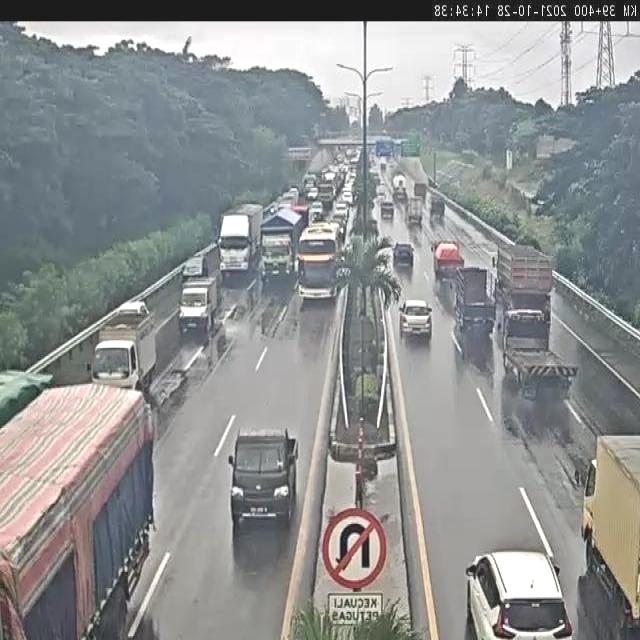Car: (393, 242, 414, 268), (430, 195, 445, 219)
Truck: (0, 382, 157, 640), (490, 287, 596, 408), (580, 436, 639, 636), (464, 549, 573, 638), (228, 426, 300, 532), (135, 263, 191, 391), (90, 301, 161, 397), (296, 223, 342, 304), (260, 206, 306, 286), (219, 205, 264, 282), (453, 263, 494, 342), (178, 272, 220, 340), (185, 241, 222, 302), (351, 372, 384, 438), (298, 297, 332, 350), (142, 398, 157, 508), (398, 298, 432, 340), (582, 458, 597, 548), (308, 220, 342, 257), (434, 240, 464, 280), (437, 275, 459, 313), (182, 251, 209, 281), (268, 191, 298, 217), (358, 446, 378, 484), (116, 300, 150, 319), (573, 457, 591, 490), (328, 166, 346, 198), (407, 196, 424, 228), (316, 137, 358, 149), (287, 146, 312, 163), (452, 320, 464, 355), (318, 183, 334, 209), (404, 133, 422, 155), (526, 198, 545, 217), (291, 202, 309, 222), (375, 243, 392, 264), (308, 201, 324, 223), (334, 215, 347, 241), (333, 201, 348, 223), (303, 174, 317, 197), (322, 170, 337, 191), (393, 182, 408, 202), (542, 294, 552, 324), (380, 200, 394, 220), (286, 431, 296, 459), (410, 222, 422, 245), (492, 272, 500, 306), (260, 306, 269, 336), (369, 164, 380, 188), (382, 154, 395, 174), (414, 181, 427, 200), (373, 259, 386, 277), (356, 148, 366, 170), (327, 132, 346, 143), (535, 195, 551, 208), (369, 209, 378, 232), (286, 187, 298, 204), (394, 138, 404, 158), (338, 162, 348, 182), (367, 142, 378, 159), (346, 148, 358, 163), (346, 168, 356, 186), (376, 186, 386, 203), (395, 175, 406, 190), (574, 466, 582, 486), (358, 416, 366, 436), (300, 133, 312, 146), (351, 187, 360, 204), (350, 116, 359, 132), (428, 177, 439, 190), (506, 149, 512, 171), (369, 154, 377, 168), (336, 152, 345, 164), (269, 204, 278, 215), (379, 160, 386, 171), (312, 130, 319, 141), (371, 194, 376, 208), (430, 242, 435, 253), (382, 130, 389, 137)
